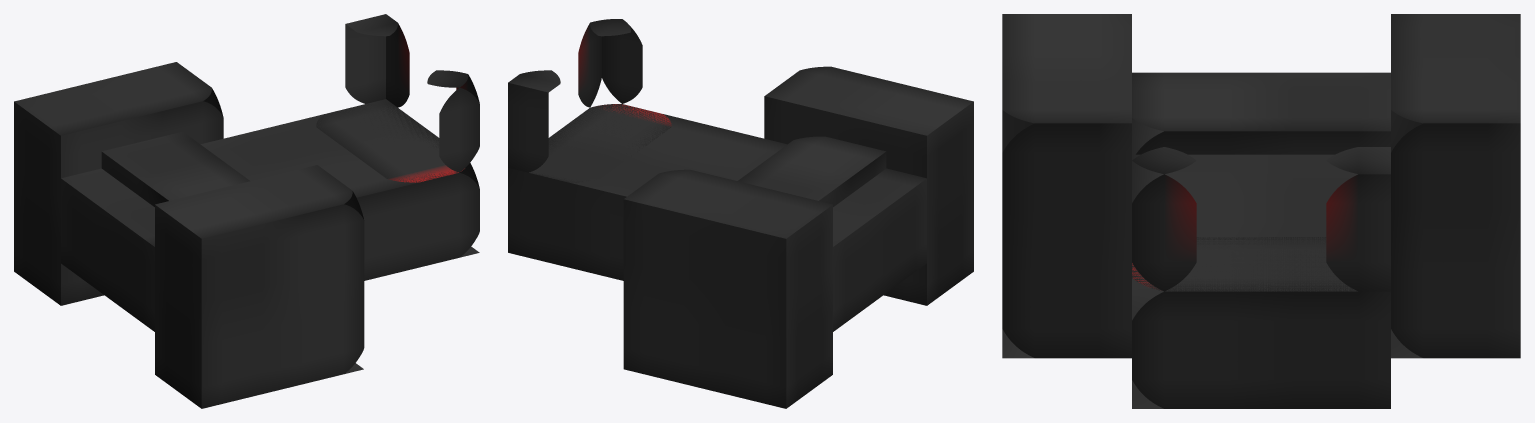
The model's file is akm_is1.obj.
3 views of the same model, side by side, from view 1: azimuth 30°, elevation 25°; view 2: azimuth 150°, elevation 25°; view 3: azimuth 270°, elevation 25° (orthographic). The views are drawn at different scales.
Visible parts, largest first — view 1: Shape2, Shape1, Shape3, Shape4, Shape5; view 2: Shape3, Shape1, Shape2, Shape4, Shape5; view 3: Shape1, Shape2, Shape3, Shape4, Shape5.
Boxes of the visible parts, box(x1,y1,x2,y2) form: Shape2: box(155, 165, 364, 408); Shape1: box(61, 99, 479, 331); Shape3: box(14, 62, 223, 305); Shape4: box(316, 14, 479, 182); Shape5: box(101, 131, 250, 206); Shape3: box(623, 169, 832, 408); Shape1: box(508, 104, 926, 331); Shape2: box(764, 66, 973, 305); Shape4: box(508, 19, 671, 182); Shape5: box(737, 136, 886, 206); Shape1: box(1132, 72, 1390, 408); Shape2: box(1002, 14, 1131, 358); Shape3: box(1391, 14, 1520, 358); Shape4: box(1132, 147, 1390, 291); Shape5: box(1132, 76, 1390, 154).
Size of the model in its own units: 0.25 by 0.1562 by 0.25.
